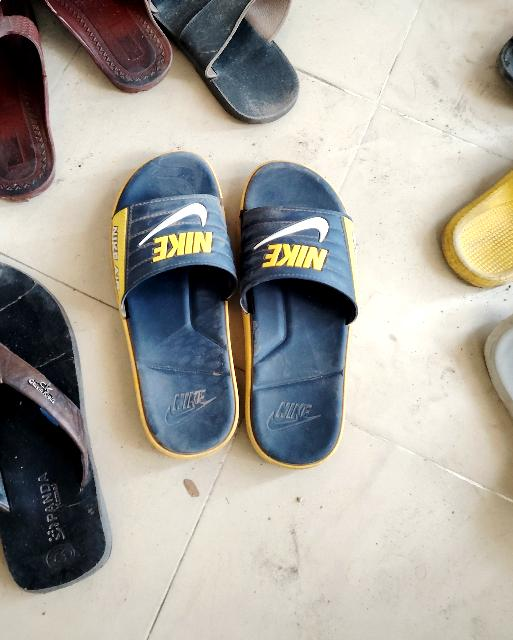sandal: (96, 161, 350, 468), (0, 243, 127, 605), (424, 153, 513, 298)
